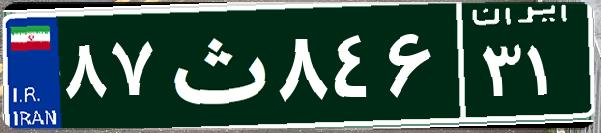1: (525, 38, 570, 115)
3: (475, 38, 525, 113)
4: (330, 28, 385, 110)
6: (385, 28, 445, 110)
7: (110, 28, 158, 105)
8: (273, 28, 330, 110), (57, 26, 110, 107)
ث: (158, 15, 273, 115)
